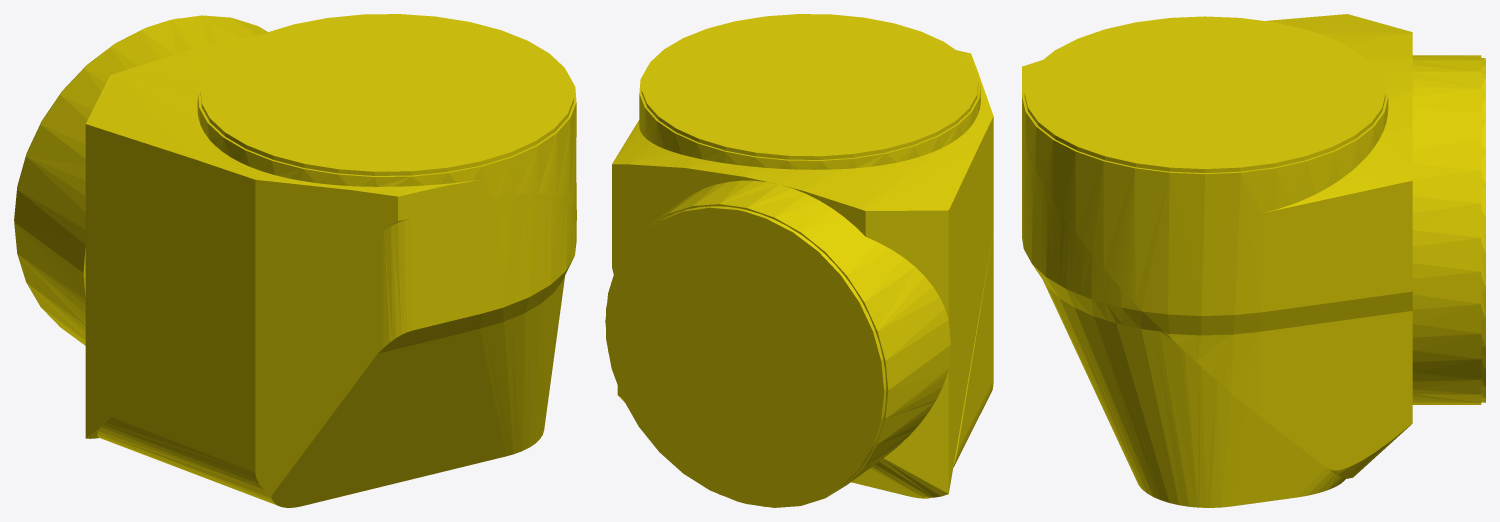
The model's file is shoulder_link.dae.
3 renders of one model, left to right at view 1: azimuth 30°, elevation 25°; view 2: azimuth 150°, elevation 25°; view 3: azimuth 270°, elevation 25°, orthographic. The views are drawn at different scales.
Visible parts, largest first — view 1: node; view 2: node; view 3: node.
Part boxes in pixels (left/top/right/bottom): node: left=14, top=14, right=576, bottom=507; node: left=605, top=14, right=993, bottom=507; node: left=1022, top=14, right=1485, bottom=507.
Size of the model in its own units: 0.54 by 0.468 by 0.57.
1 material, 1 textured.
